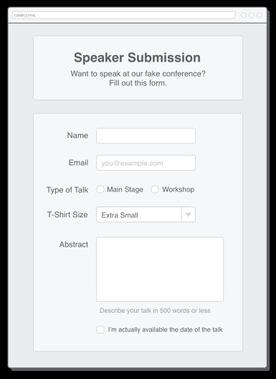checkbox: (95, 323, 106, 334)
checkbox_with_label: (94, 321, 222, 335)
field: (94, 236, 224, 304), (94, 205, 198, 223), (96, 127, 198, 145), (95, 153, 197, 171)
field_with_label: (58, 235, 226, 305), (47, 204, 199, 224), (67, 126, 200, 146), (68, 152, 198, 172)
radio: (149, 183, 160, 195), (96, 183, 106, 194)
radio_with_label: (94, 181, 144, 196), (147, 181, 196, 196)
